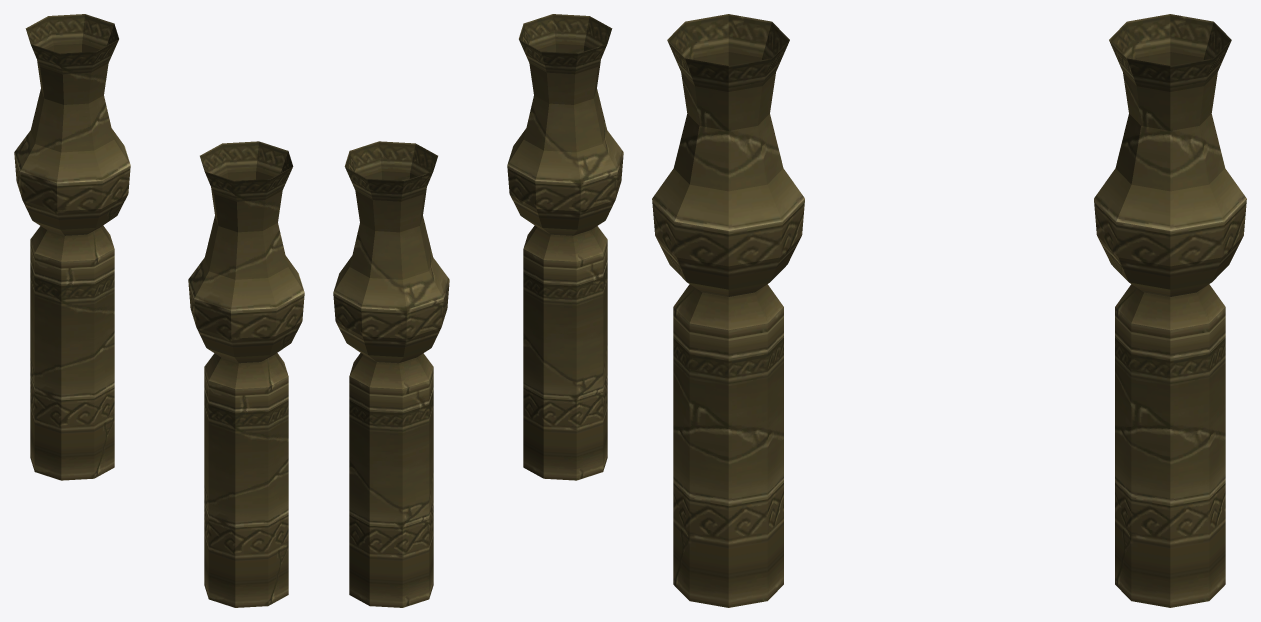
File: stone_bridge_column_01.fbx
3 renders of one model, left to right at view 1: azimuth 30°, elevation 25°; view 2: azimuth 150°, elevation 25°; view 3: azimuth 270°, elevation 25°, orthographic. The views are drawn at different scales.
Visible parts, largest first — view 1: obj0.124; view 2: obj0.124; view 3: obj0.124.
Boxes of the visible parts, x1,y1,x2,y2 form: obj0.124: (14, 14, 304, 607); obj0.124: (333, 14, 623, 607); obj0.124: (652, 14, 1246, 607).
Size of the model in its own units: 1.39 by 5.47 by 5.42.
